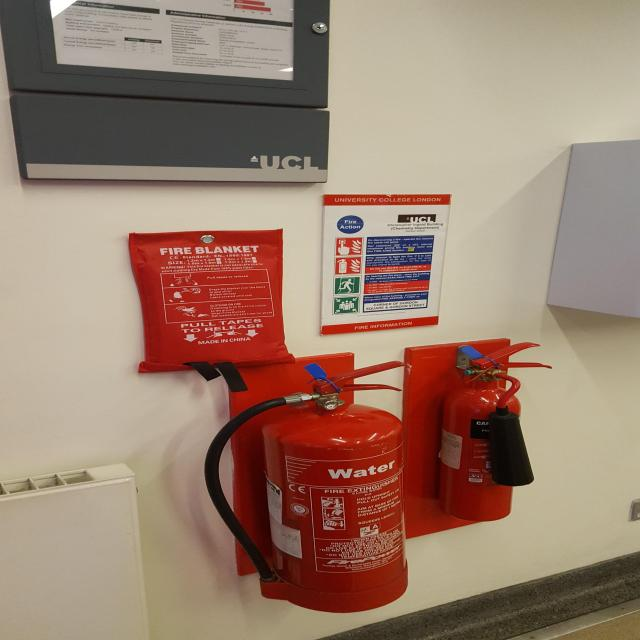fire_extinguisher: (200, 357, 415, 616), (424, 338, 564, 524)
